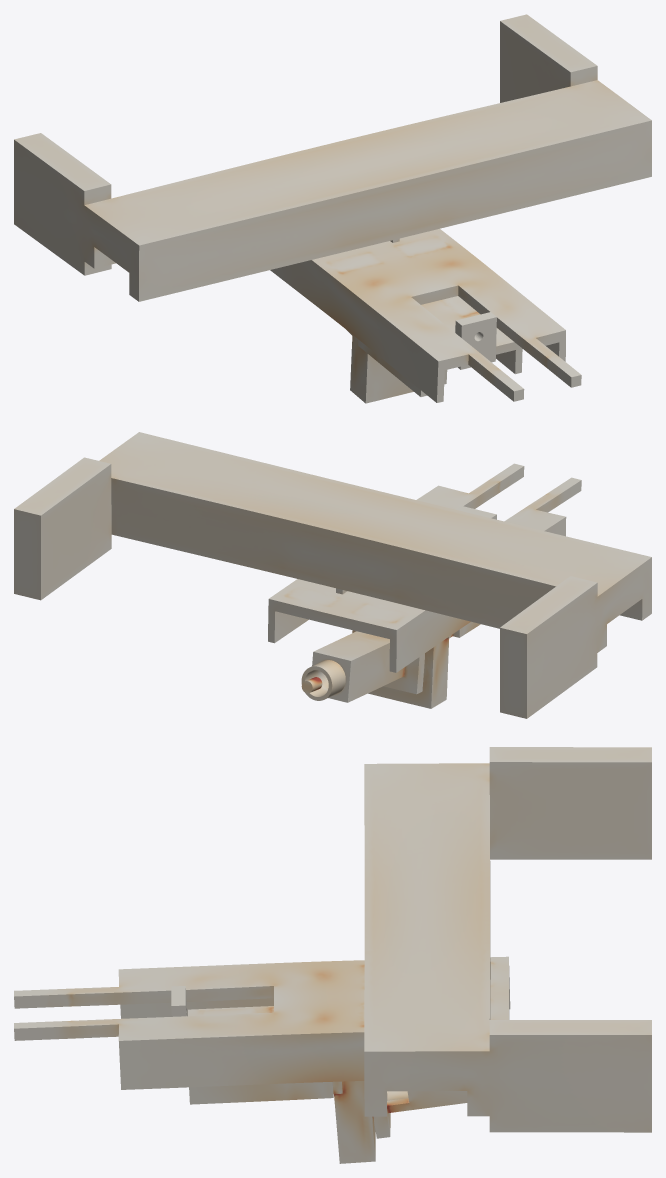
Rendered from gantry_h6_c12_Fy_vm.glb.
3 views of the same model, one above another, from view 1: azimuth 30°, elevation 25°; view 2: azimuth 150°, elevation 25°; view 3: azimuth 270°, elevation 25° (orthographic). The views are drawn at different scales.
Visible parts, largest first — view 1: geometry_0; view 2: geometry_0; view 3: geometry_0.
Part boxes in pixels (box(x1,y1,x2,y2)): geometry_0: box(14, 14, 651, 403); geometry_0: box(14, 432, 651, 718); geometry_0: box(14, 747, 651, 1163).
Size of the model in its own units: 761 by 308 by 712.
